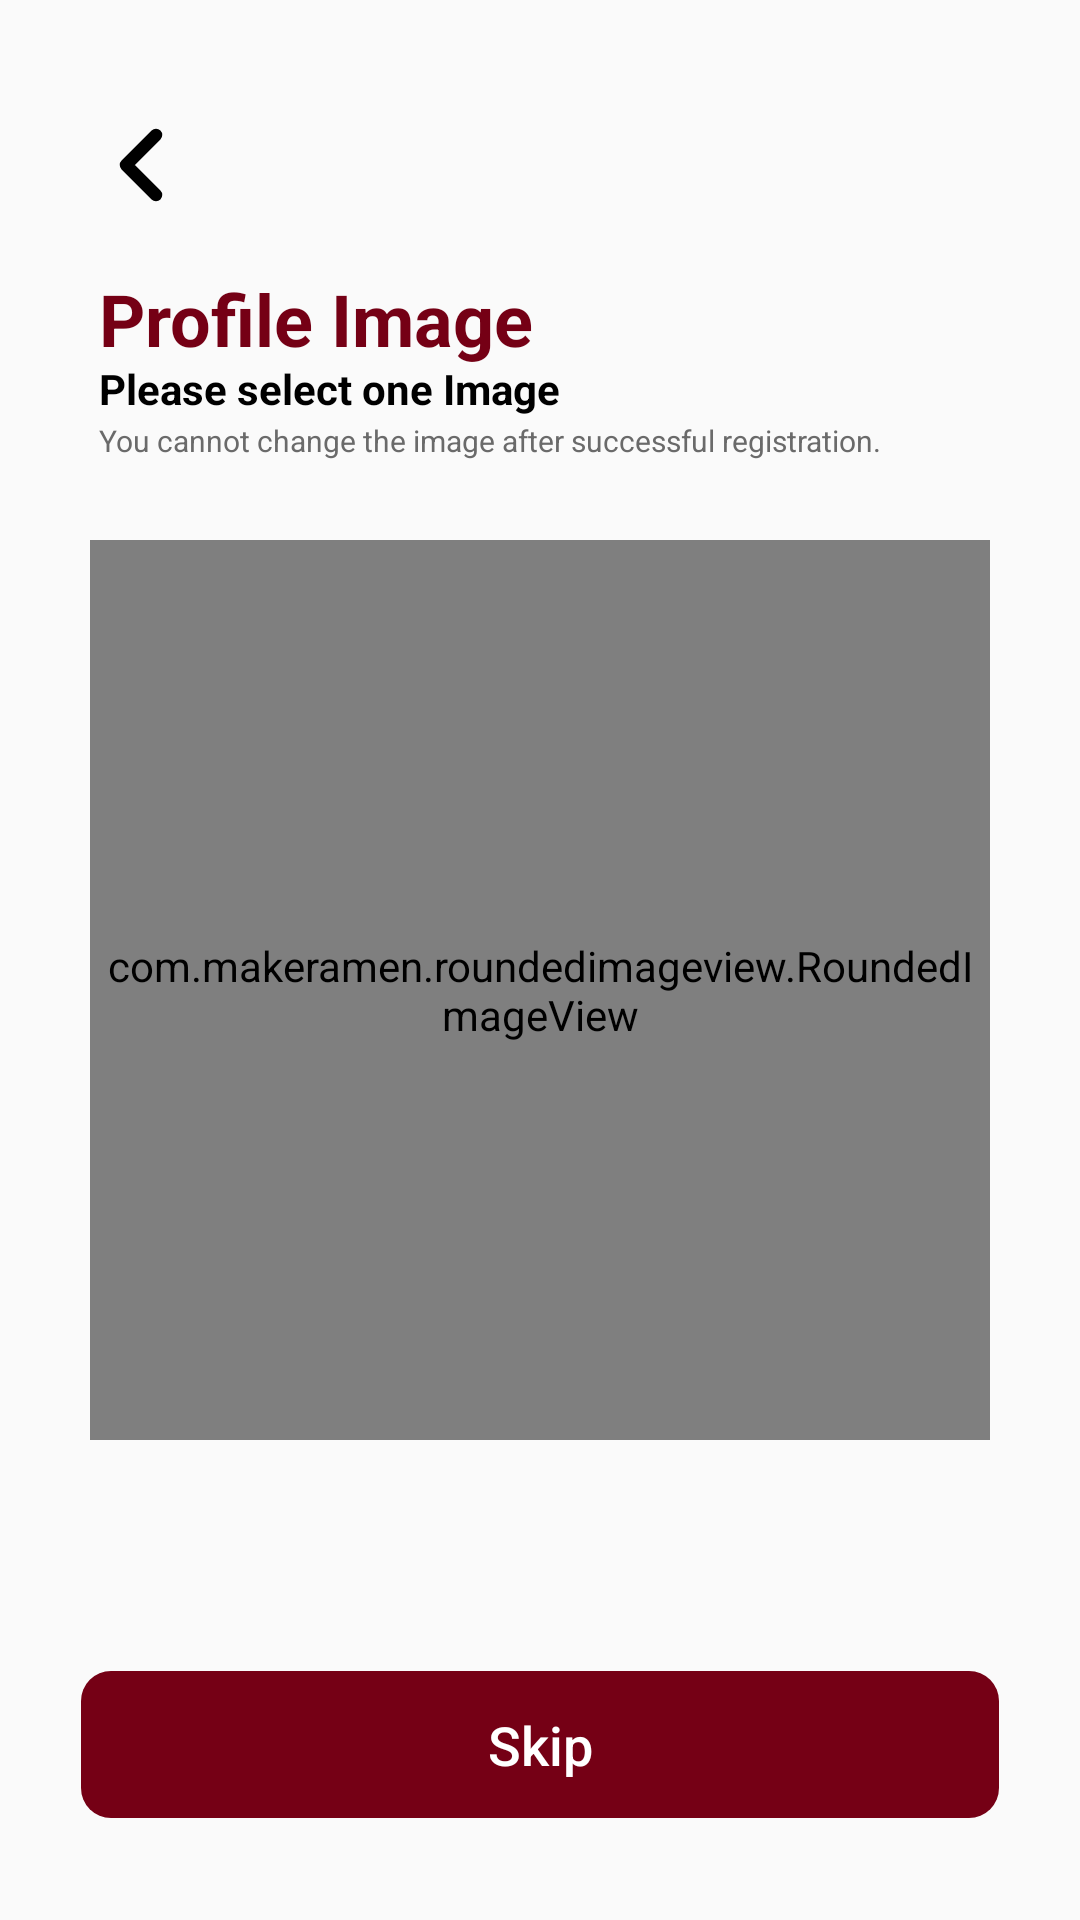

Named icons in this screenshot (1080px×1920px) and their centers, (x,y):
Back: (141,165)
